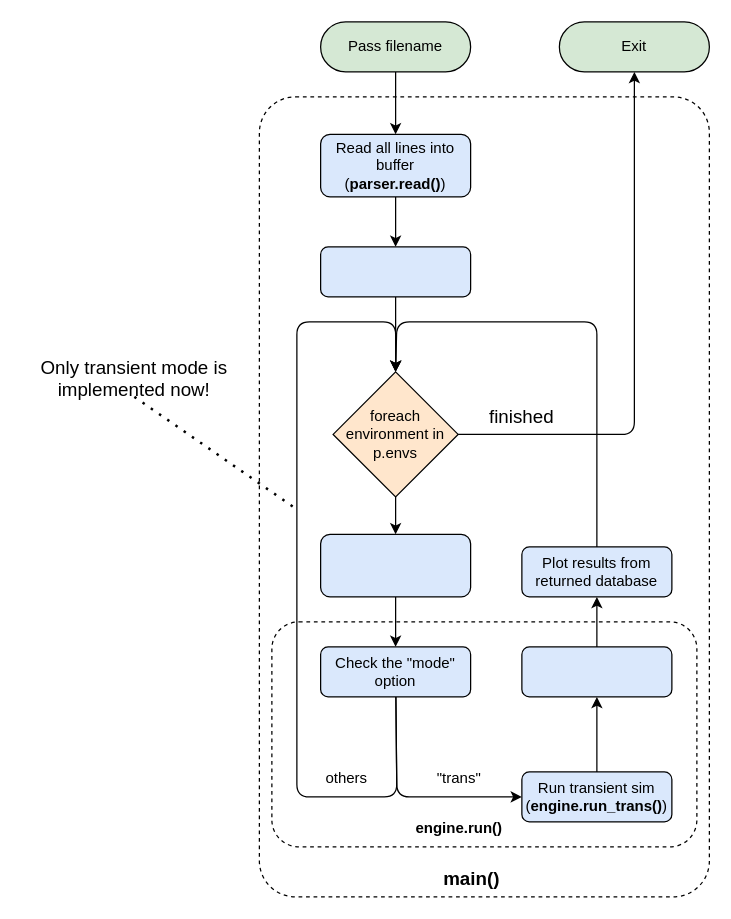
Some shapes in this 731 by 919 pixel diagram are drawn without their labels. The shapes that lost their labels are listed below. From the top down, each one's centre as x and y in pixels, then its label:
(x=395, y=271): Parse the file ( parser.parse() )
(x=395, y=565): Set engine environment ( engine.set_env() )
(x=596, y=671): Create database to print from data_trans
